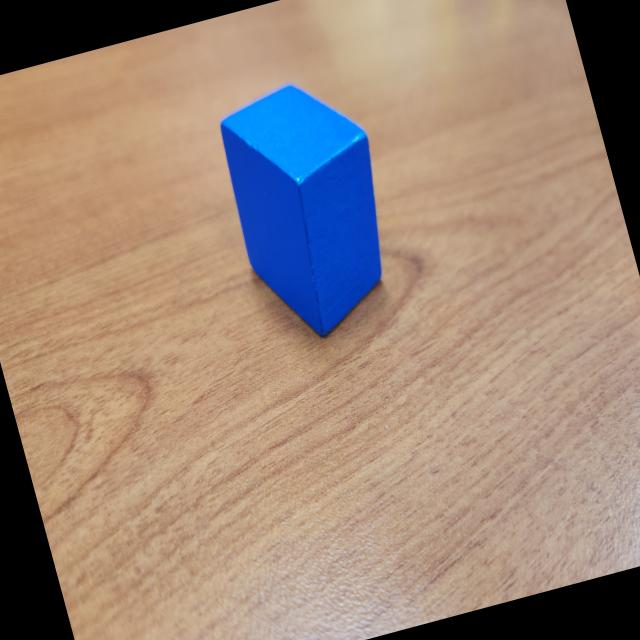blue: (206, 68, 414, 350)
